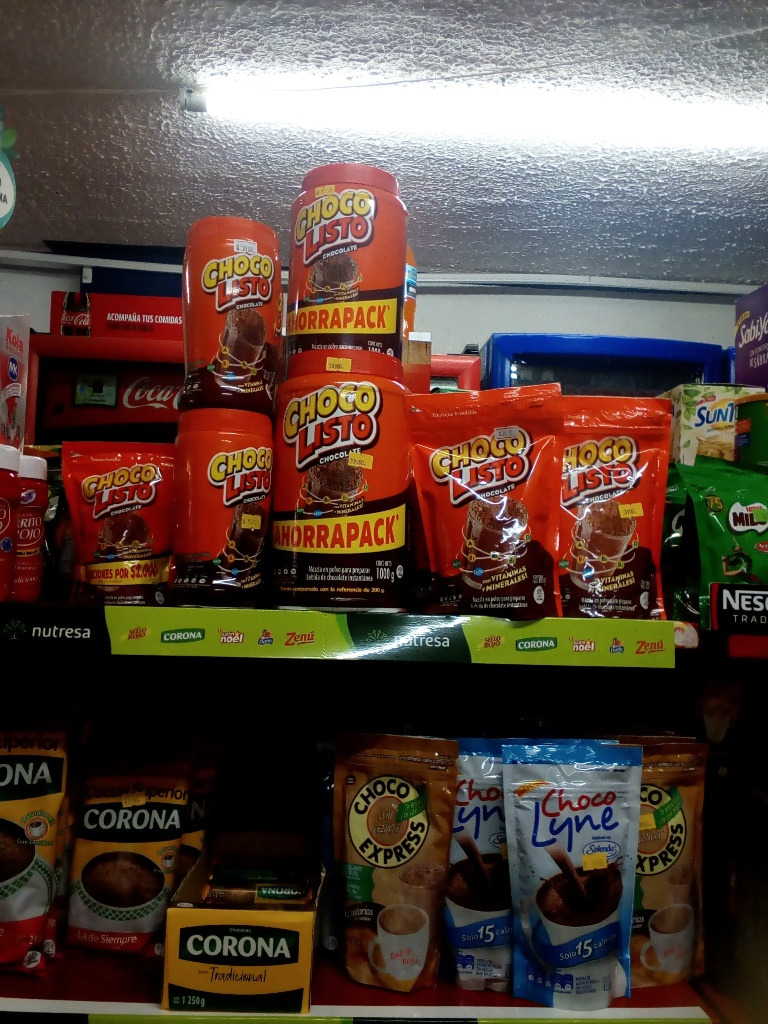COL0170103TRR00100: (272, 351, 421, 611)
